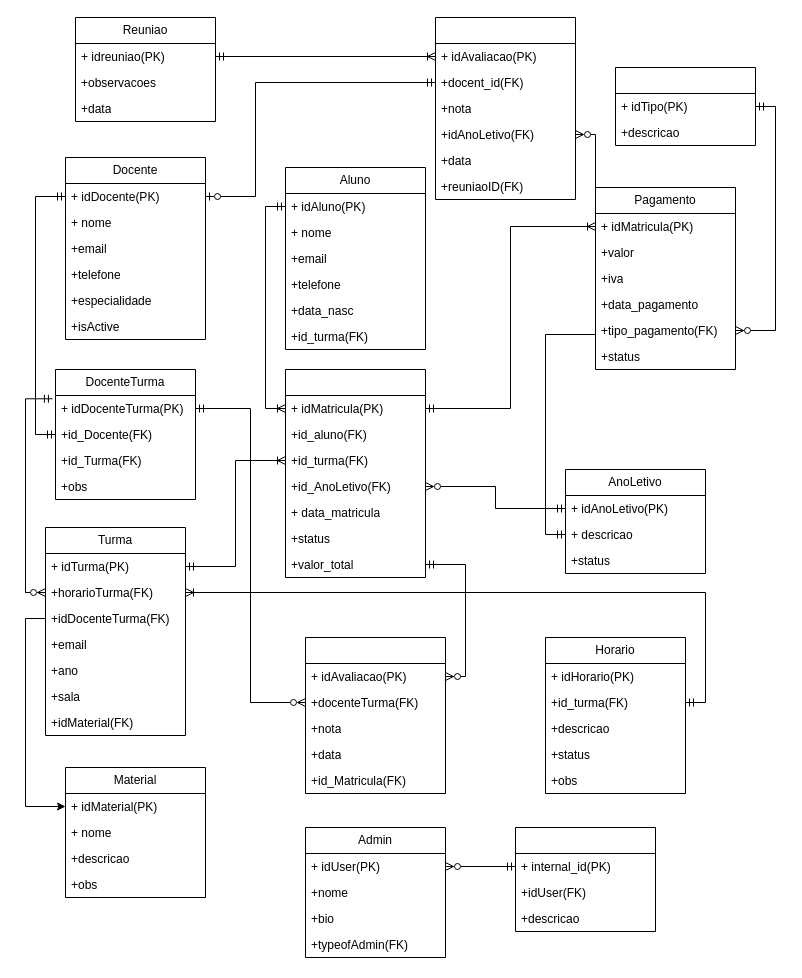
The diagram is 802 pixels wide and 978 high, and some of its shapes have lost their labels. Here are the shapes that lost their labels. From the top down, the box of each, then its label:
(434, 16, 576, 200): AvaliacaoGeral
(614, 66, 756, 146): TipoPagamento
(284, 368, 426, 578): Matrícula
(304, 636, 446, 794): AvaliacaoAluno
(514, 826, 656, 932): typeofAdmin
